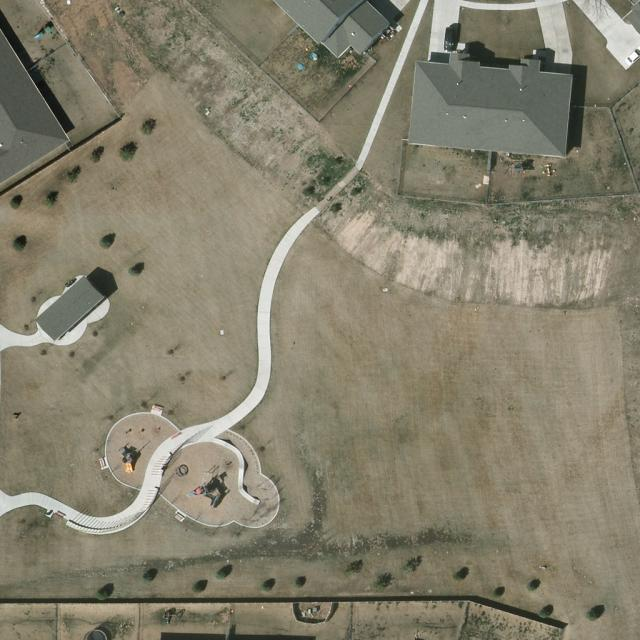vehicle: (444, 28, 456, 51)
